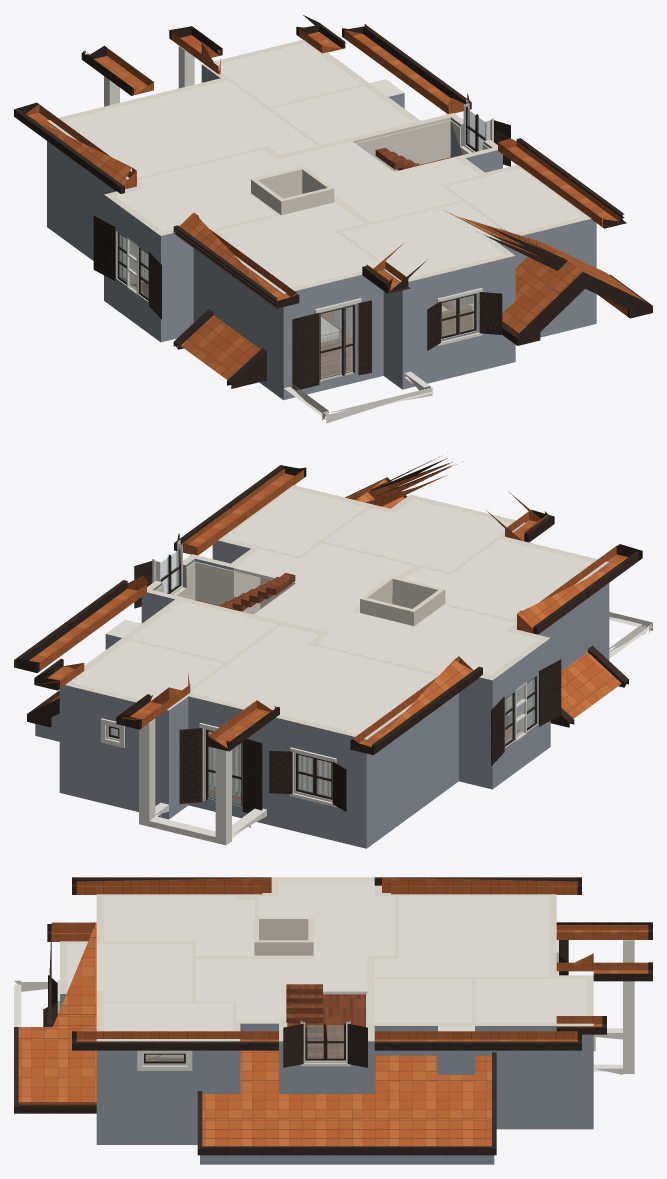
File: villa-f2.glb
3 renders of one model, top to bottom at view 1: azimuth 30°, elevation 25°; view 2: azimuth 150°, elevation 25°; view 3: azimuth 270°, elevation 25°, orthographic. The views are drawn at different scales.
Visible parts, largest first — view 1: F2 | KAT 2$TAVAN, F2 | KAT 2$DUVAR, F2 | ÇATII, F2 | ÇATI ALIN, F2 | PENCERE_KAPI$SHUTTER, F2 | PENCERE_KAPI$CAM, F2 | KAT 2$DUVAR KAPLAMA, F2 | ek dalgalar, F2 | PENCERE_KAPI$ÇERÇEVE, F2 | PENCERE_KAPI$SHUTTER AİM, F2 | KAT 2$ZEMİN KAPLAMA, F2 | PENCERE_KAPI$ÇEPHE ÇERÇECE (+3 smaller); view 2: F2 | KAT 2$TAVAN, F2 | KAT 2$DUVAR, F2 | ÇATII, F2 | ÇATI ALIN, F2 | PENCERE_KAPI$SHUTTER, F2 | ek dalgalar, F2 | PENCERE_KAPI$CAM, F2 | KAT 2$DUVAR KAPLAMA, F2 | PENCERE_KAPI$ÇERÇEVE, F2 | PENCERE_KAPI$ÇEPHE ÇERÇECE, F2 | PENCERE_KAPI$CEPHE FRAME, F2 | PENCERE_KAPI$SHUTTER AİM (+6 smaller); view 3: F2 | KAT 2$TAVAN, F2 | ÇATII, F2 | KAT 2$DUVAR, F2 | ÇATI ALIN, F2 | ek dalgalar, F2 | PENCERE_KAPI$SHUTTER, F2 | KAT 2$MERDİVEN, F2 | KAT 2$ZEMİN KAPLAMA, F2 | PENCERE_KAPI$CAM, F2 | PENCERE_KAPI$CEPHE FRAME, Lift shaft side wall.005, Lift shaft side wall.004 (+2 smaller).
Boxes of the visible parts, bbox=[...] form: F2 | KAT 2$TAVAN: bbox=[62, 43, 585, 288]; F2 | KAT 2$DUVAR: bbox=[47, 39, 596, 400]; F2 | ÇATII: bbox=[26, 29, 645, 379]; F2 | ÇATI ALIN: bbox=[14, 15, 652, 388]; F2 | PENCERE_KAPI$SHUTTER: bbox=[93, 93, 510, 390]; F2 | PENCERE_KAPI$CAM: bbox=[119, 109, 485, 378]; F2 | KAT 2$DUVAR KAPLAMA: bbox=[123, 120, 489, 335]; F2 | ek dalgalar: bbox=[104, 46, 433, 423]; F2 | PENCERE_KAPI$ÇERÇEVE: bbox=[117, 106, 485, 380]; F2 | PENCERE_KAPI$SHUTTER AİM: bbox=[95, 130, 507, 387]; F2 | KAT 2$ZEMİN KAPLAMA: bbox=[133, 282, 454, 375]; F2 | PENCERE_KAPI$ÇEPHE ÇERÇECE: bbox=[116, 104, 490, 372]; F2 | KAT 2$TAVAN: bbox=[71, 488, 593, 733]; F2 | KAT 2$DUVAR: bbox=[35, 485, 609, 848]; F2 | ÇATII: bbox=[29, 456, 627, 748]; F2 | ÇATI ALIN: bbox=[14, 456, 642, 755]; F2 | PENCERE_KAPI$SHUTTER: bbox=[134, 533, 561, 813]; F2 | ek dalgalar: bbox=[106, 612, 652, 845]; F2 | PENCERE_KAPI$CAM: bbox=[110, 549, 534, 805]; F2 | KAT 2$DUVAR KAPLAMA: bbox=[155, 561, 530, 739]; F2 | PENCERE_KAPI$ÇERÇEVE: bbox=[108, 549, 536, 807]; F2 | PENCERE_KAPI$ÇEPHE ÇERÇECE: bbox=[106, 544, 537, 810]; F2 | PENCERE_KAPI$CEPHE FRAME: bbox=[100, 539, 336, 806]; F2 | PENCERE_KAPI$SHUTTER AİM: bbox=[183, 668, 560, 805]; F2 | KAT 2$TAVAN: bbox=[67, 880, 585, 1031]; F2 | ÇATII: bbox=[18, 877, 648, 1146]; F2 | KAT 2$DUVAR: bbox=[60, 877, 593, 1164]; F2 | ÇATI ALIN: bbox=[14, 877, 652, 1155]; F2 | ek dalgalar: bbox=[14, 940, 634, 1074]; F2 | PENCERE_KAPI$SHUTTER: bbox=[43, 922, 568, 1067]; F2 | KAT 2$MERDİVEN: bbox=[286, 984, 322, 1057]; F2 | KAT 2$ZEMİN KAPLAMA: bbox=[323, 994, 365, 1057]; F2 | PENCERE_KAPI$CAM: bbox=[145, 1025, 343, 1061]; F2 | PENCERE_KAPI$CEPHE FRAME: bbox=[57, 940, 595, 1070]; Lift shaft side wall.005: bbox=[254, 940, 313, 955]; Lift shaft side wall.004: bbox=[254, 917, 313, 932].
Size of the model in its own units: 12.19 by 4.56 by 17.37.
Materials: 37 (37 with a texture image).
